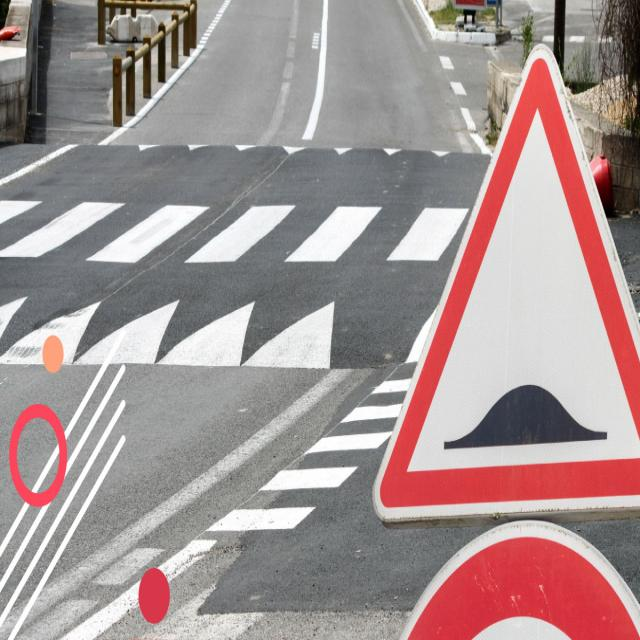hump: (371, 41, 640, 530)
